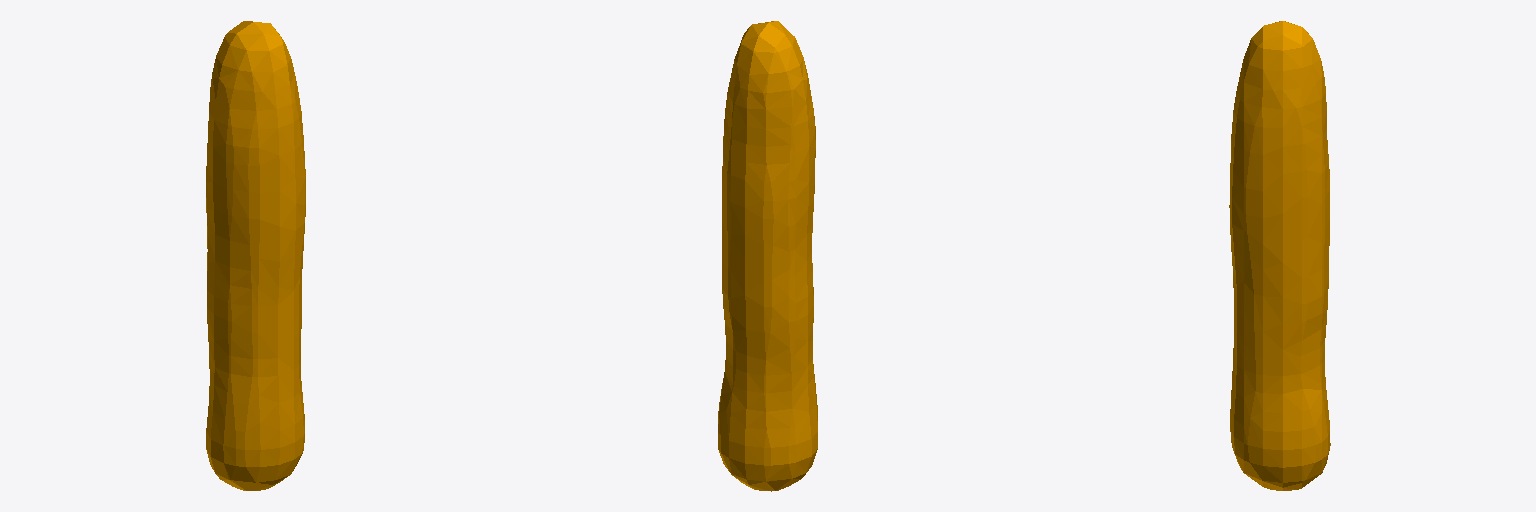
URDF robot description (large_marker):
<?xml version="1.0"?>
<robot name="large_marker">
  <link name="base_link">
    <contact>
      <lateral_friction value="1.0"/>
      <rolling_friction value="0.0"/>
      <contact_cfm value="0.0"/>
      <contact_erp value="1.0"/>
    </contact>
    <inertial>
      <mass value="0.023625586696"/>
      <inertia ixx="1" ixy="0" ixz="0" iyy="1" iyz="0" izz="1"/>
    </inertial>
    <visual>
      <geometry>
        <mesh filename="large_marker_visual.obj"/>
      </geometry>
    </visual>
    <collision>
      <geometry>
        <mesh filename="large_marker_collision.obj"/>
      </geometry>
    </collision>
  </link>
</robot>

--- What the picture shows (computed from the rendered views, not written in the file) ---
Views: 3 orthographic renders of the robot side by side, from view 1: azimuth 30°, elevation 25°; view 2: azimuth 150°, elevation 25°; view 3: azimuth 270°, elevation 25°.
Model large_marker with 1 links and 0 joints (none), rooted at base_link, posed every joint at zero.
Visible links, largest first — view 1: base_link; view 2: base_link; view 3: base_link.
Boxes of the visible links, x1,y1,x2,y2 form: base_link: (206,21,305,490); base_link: (718,21,817,491); base_link: (1229,21,1330,490).
Size in the robot's own frame: 0.0225 by 0.0222 by 0.1127 metres.
Meshes: 1 distinct files referenced, 1 mesh visuals loaded (1 OBJ).